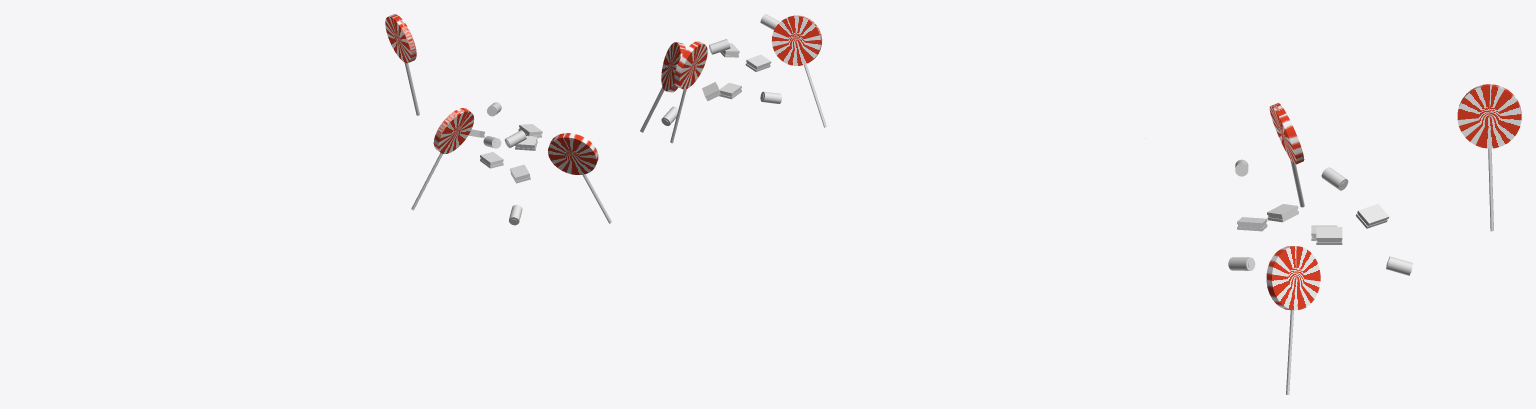
Rendered from candy 1.FBX.
3 views of the same model, side by side, from view 1: azimuth 30°, elevation 25°; view 2: azimuth 150°, elevation 25°; view 3: azimuth 270°, elevation 25° (orthographic). The views are drawn at different scales.
Visible parts, largest first — view 1: Cylinder016, Cylinder017, Cylinder020; view 2: Cylinder017, Cylinder020, Cylinder016; view 3: Cylinder020, Cylinder016, Cylinder017, Box016, Box011, Cylinder009, Cylinder019, Cylinder005, Cylinder015, Cylinder011.
Part boxes in pixels (x1,y1,x2,y2): Cylinder016: (548,133,598,174); Cylinder017: (433,108,474,153); Cylinder020: (385,14,416,63); Cylinder017: (771,15,822,65); Cylinder020: (674,41,707,89); Cylinder016: (661,42,685,92); Cylinder020: (1457,84,1521,148); Cylinder016: (1266,246,1320,310); Cylinder017: (1269,102,1304,164); Box016: (1357,204,1389,225); Box011: (1316,227,1342,240); Cylinder009: (1386,256,1412,275); Cylinder019: (1488,148,1493,231); Cylinder005: (1321,167,1348,190); Cylinder015: (1286,310,1293,394); Cylinder011: (1228,257,1255,270).
Bounding box in the file's own units: 820 × 397 × 366.
1 material, 1 textured.
